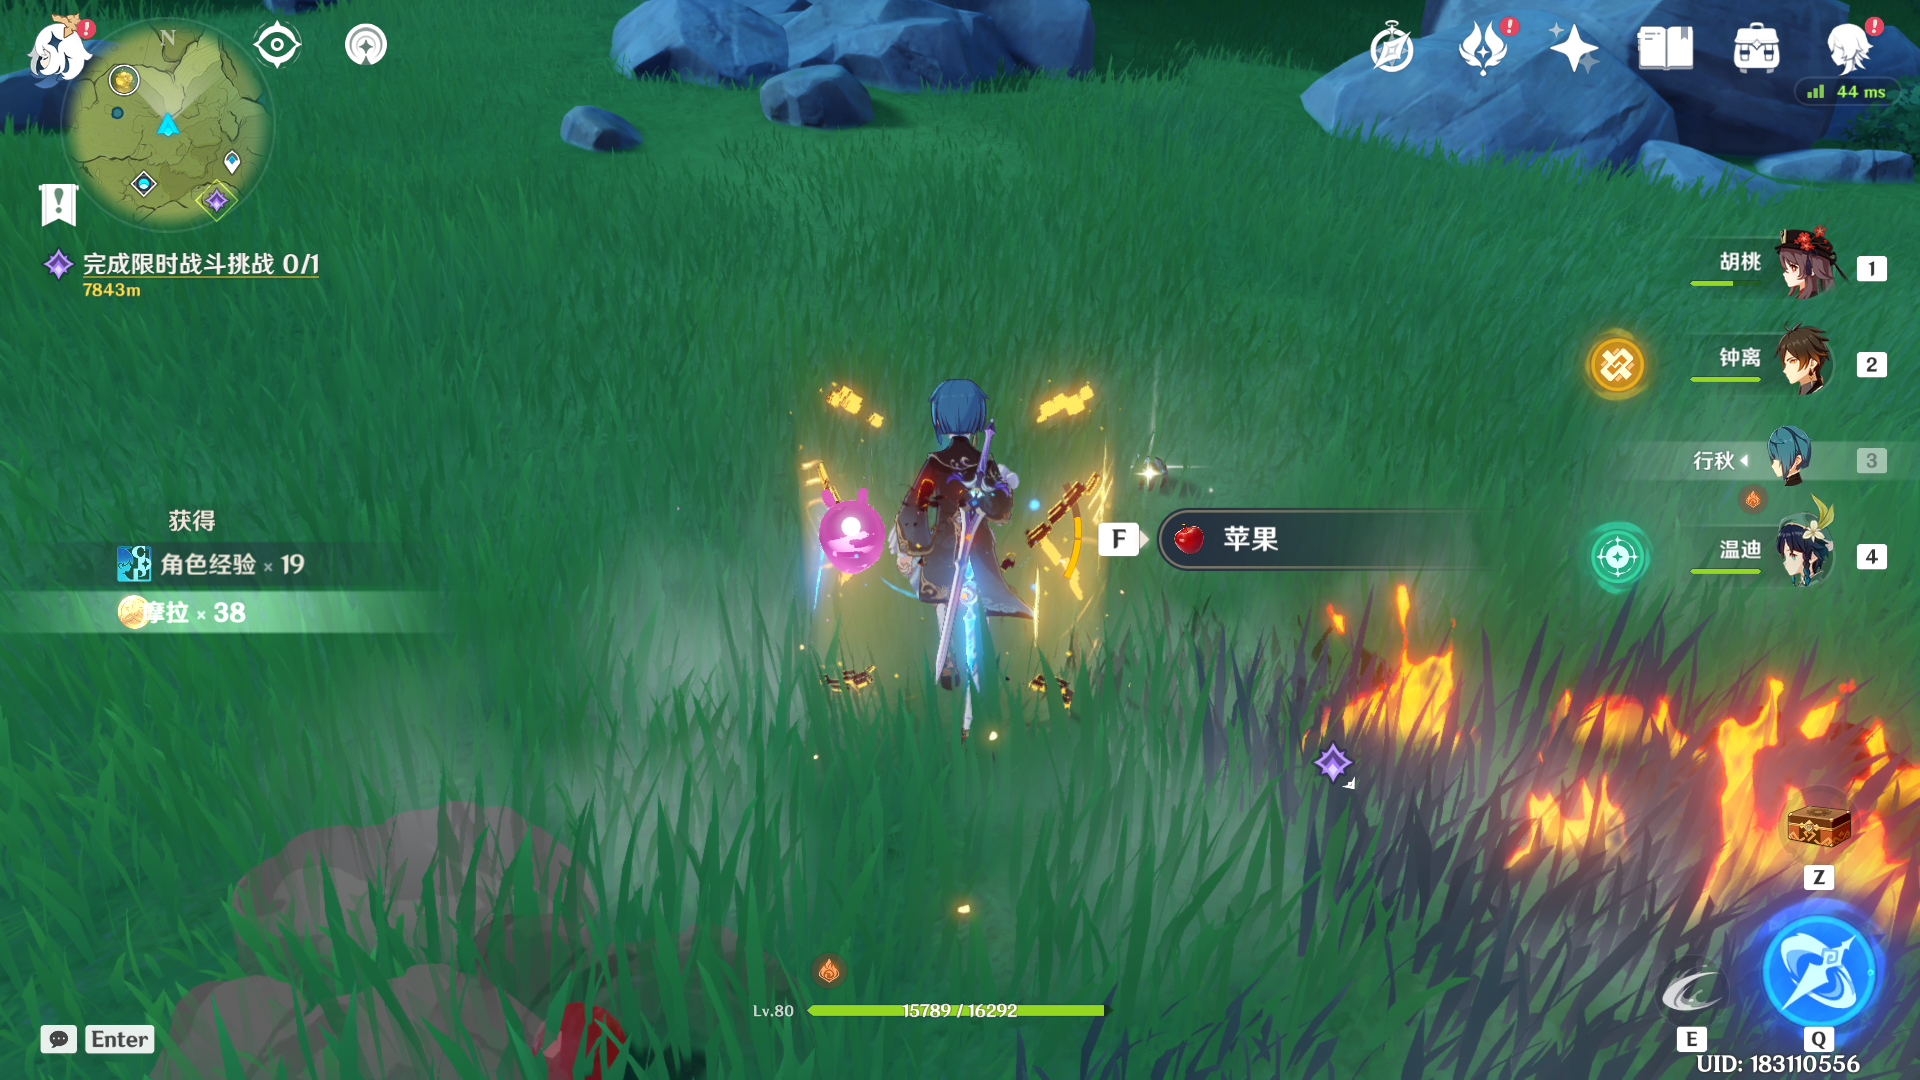hili: (866, 380, 1084, 752)
